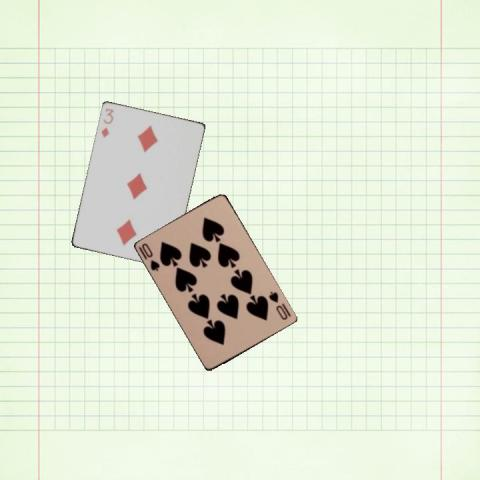10s: (266, 289, 289, 321), (139, 240, 161, 273)
3d: (98, 105, 115, 139)
